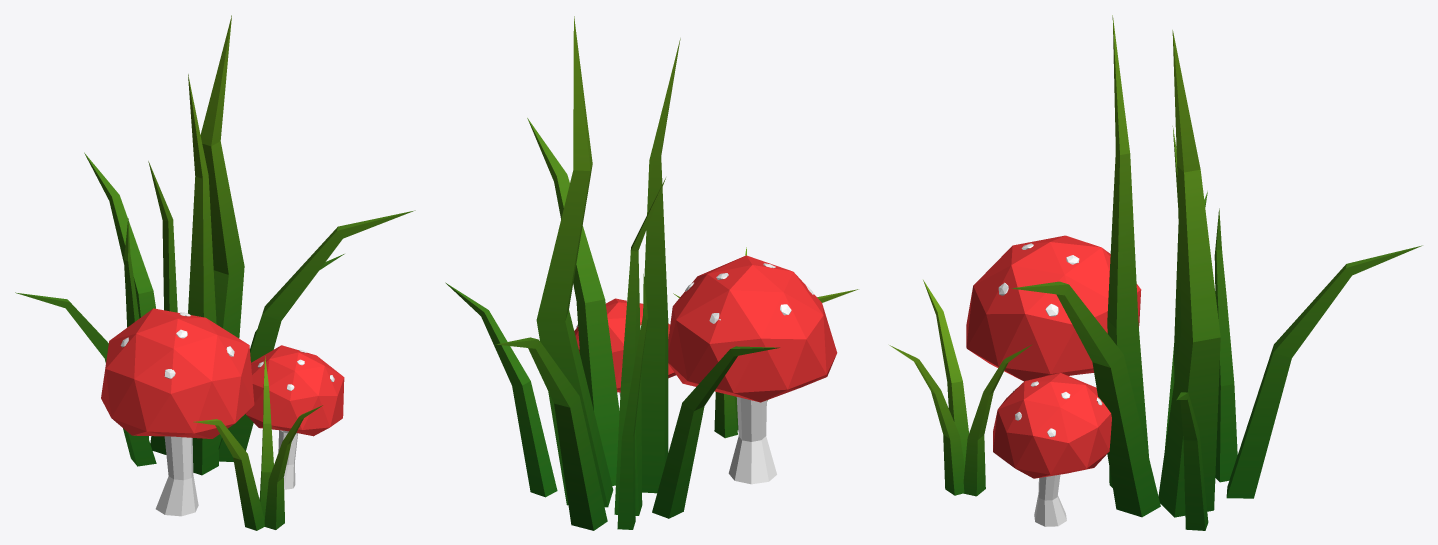
Rendered from Grass_06.fbx.
3 renders of one model, left to right at view 1: azimuth 30°, elevation 25°; view 2: azimuth 150°, elevation 25°; view 3: azimuth 270°, elevation 25°, orthographic. The views are drawn at different scales.
Visible parts, largest first — view 1: Grass_06; view 2: Grass_06; view 3: Grass_06.
Boxes of the visible parts, x1=… form: Grass_06: x1=15, y1=15, x2=415, y2=530; Grass_06: x1=445, y1=16, x2=858, y2=530; Grass_06: x1=889, y1=15, x2=1422, y2=530.
Bounding box in the file's own units: 48.81 × 63.33 × 62.17.
